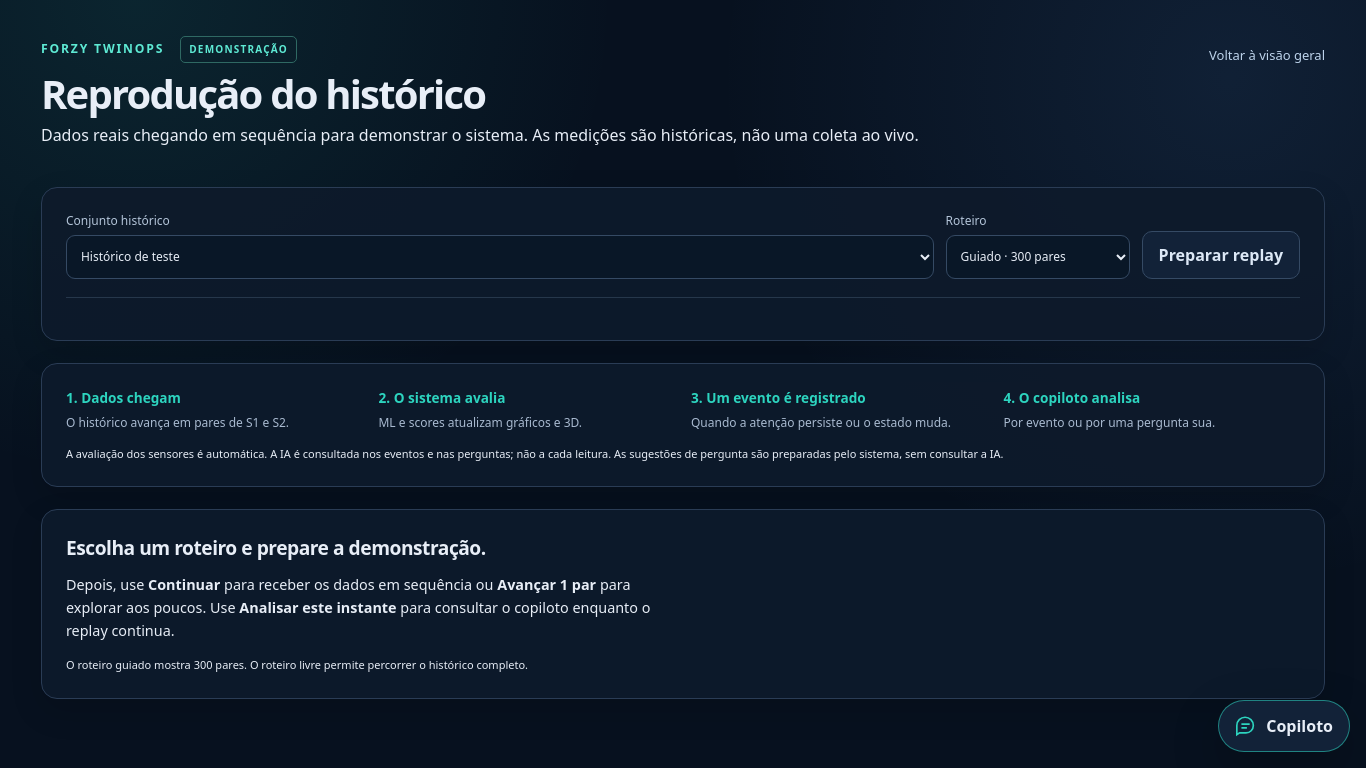
offers a review action and general suggestion even when no sensor requires attention
Click the button "Preparar replay": (1221, 255) [1142,231,1300,279]
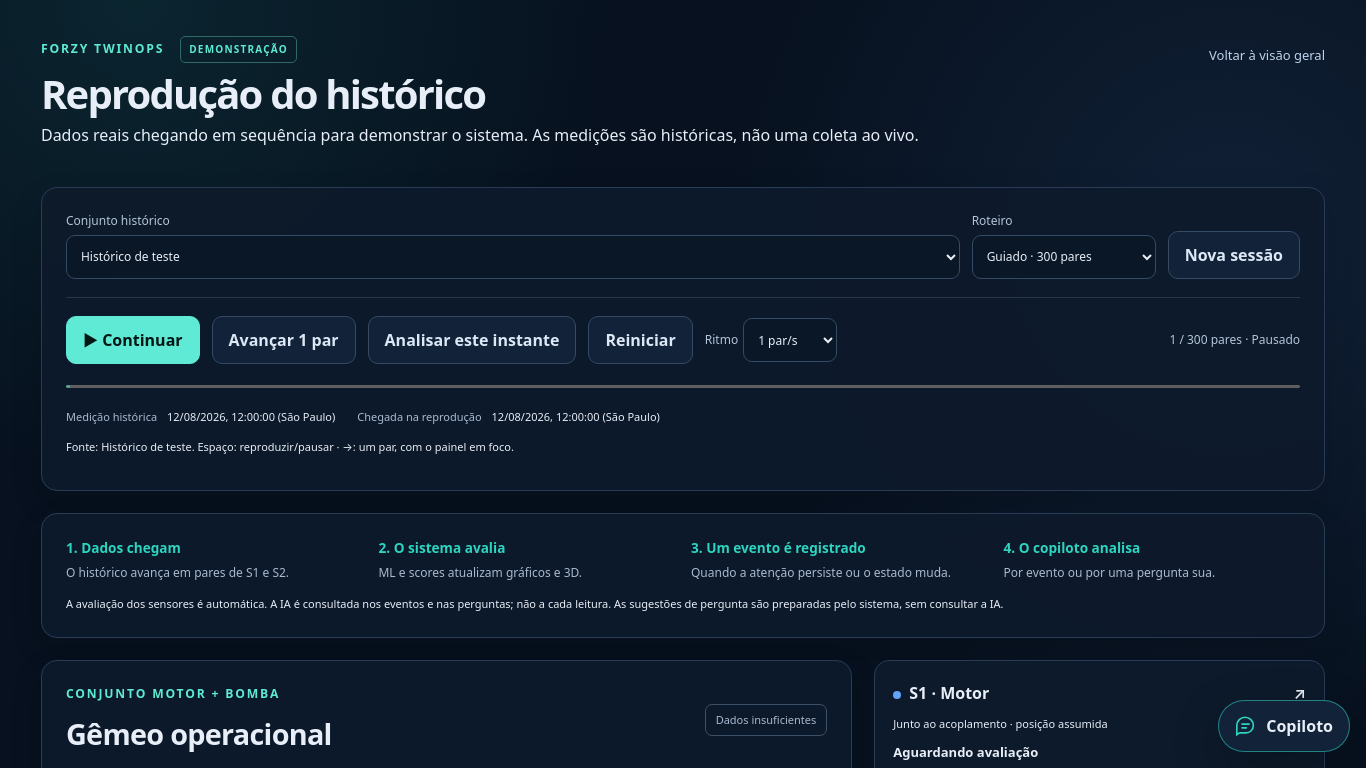
Expected: the button "Avançar 1 par" is shown, [212,316,356,364]
Click the button "Analisar este instante": (472, 340) [368,316,576,364]
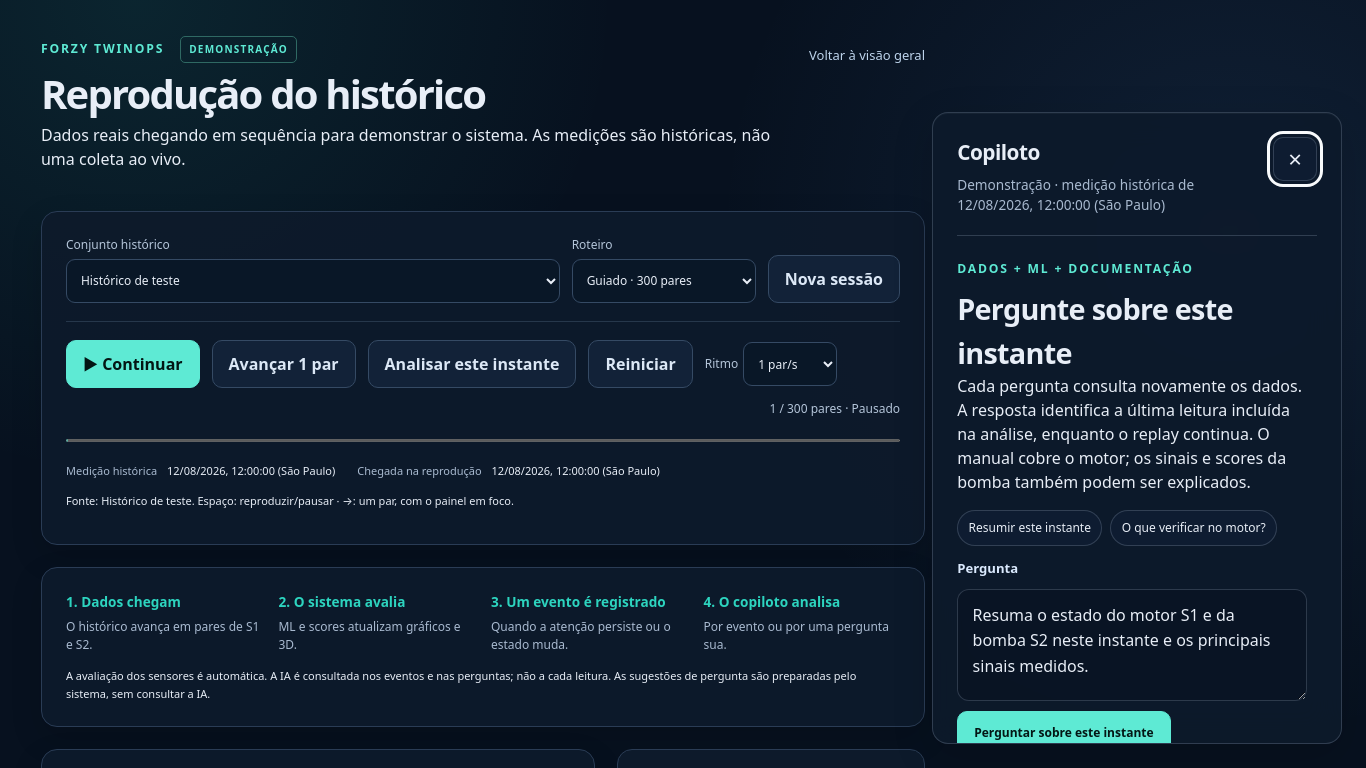
Expected: the button "Resumir este instante" is enabled, [957,510,1102,546]
Expected: the text box labelled "Pergunta" holds "Resuma o estado do motor S1 e da bomba S2 neste instante e os principais sinais medidos.", [957,589,1307,701]
